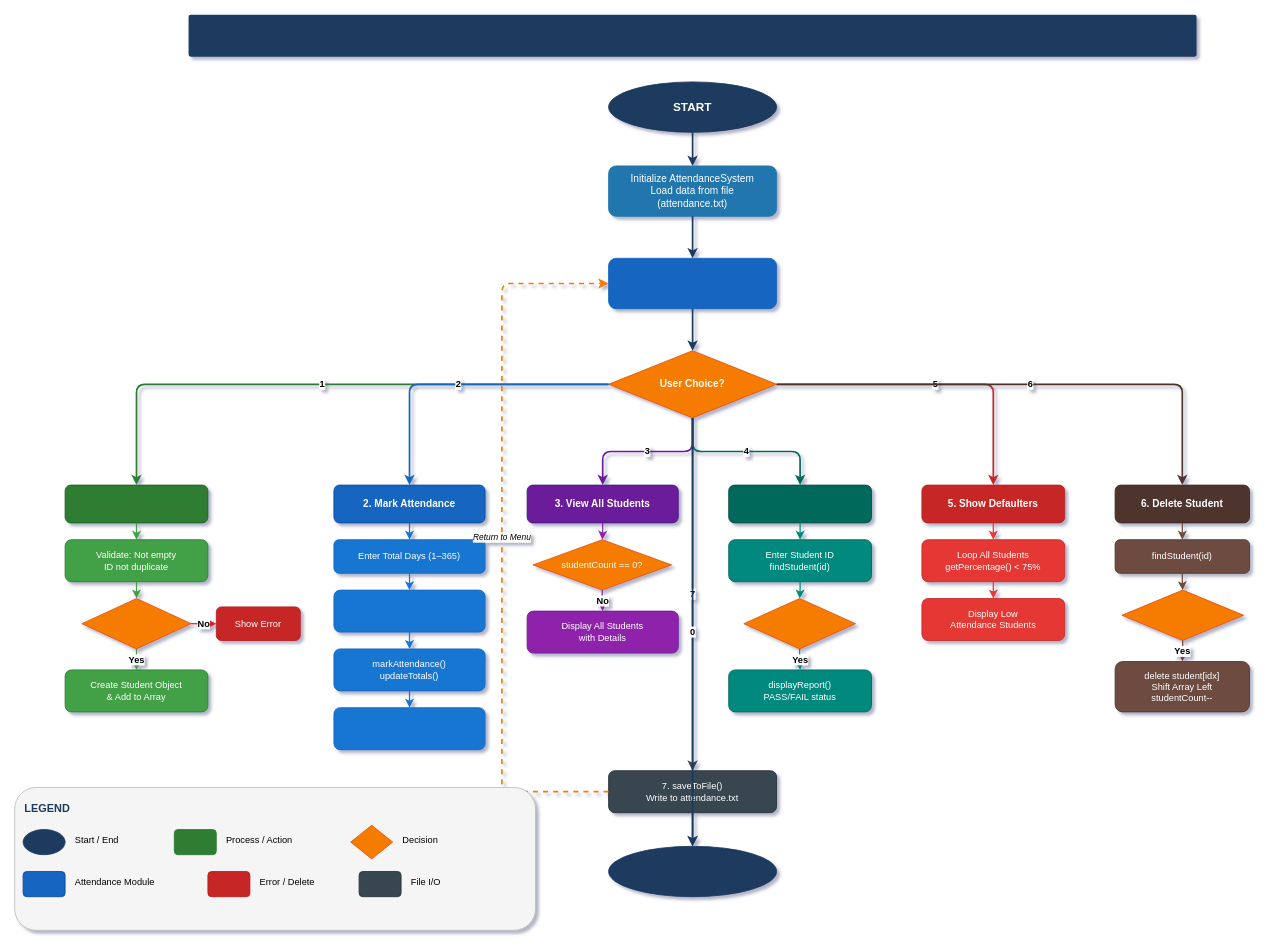
Some shapes in this 1269 by 950 pixel diagram are drawn without their labels. Here are the shapes that lost their labels. From the top down, the centre of each, then its label:
At (x=692, y=35): "Student Attendance Management System — Flowchart".
At (x=692, y=283): "Display Main Menu [1–7, 0 to Exit]".
At (x=136, y=503): "1. Add Student".
At (x=800, y=503): "4. View Report".
At (x=136, y=623): "Valid?".
At (x=409, y=610): "For Each Student: Enter Present Days".
At (x=799, y=623): "Found?".
At (x=1182, y=614): "Confirm Delete?".
At (x=409, y=728): "Show Summary (Present/Absent/Percent)".
At (x=692, y=871): "END".
